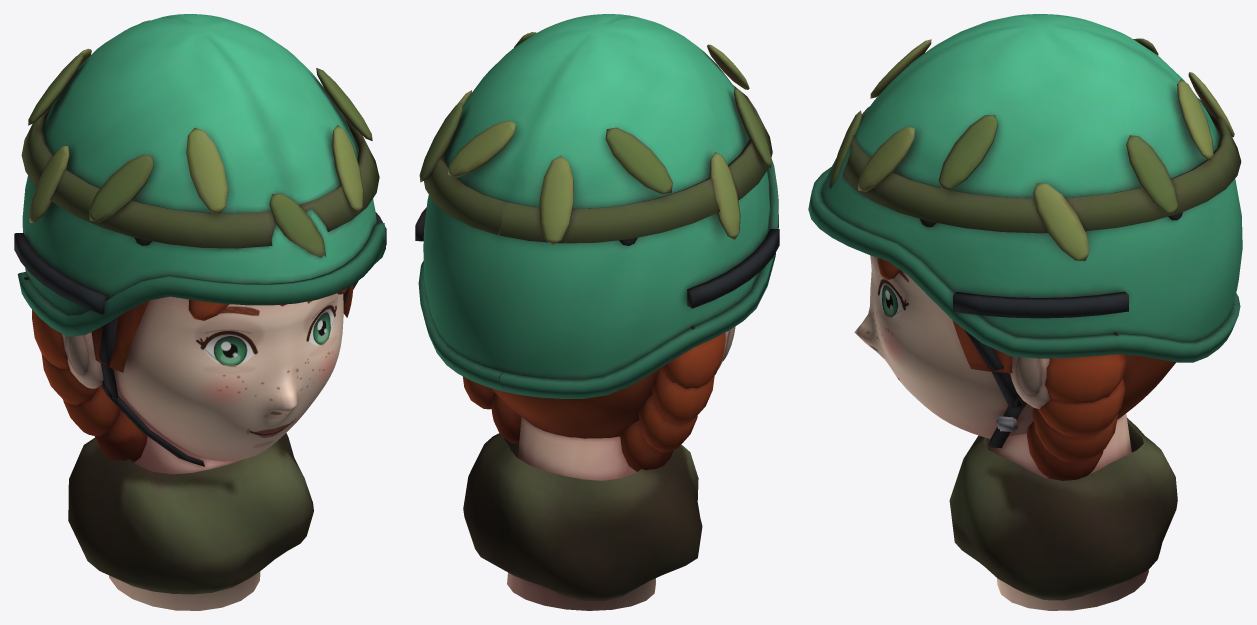
Rendered from cabeza-sniper-f.glb.
3 views of the same model, side by side, from view 1: azimuth 30°, elevation 25°; view 2: azimuth 150°, elevation 25°; view 3: azimuth 270°, elevation 25° (orthographic). The views are drawn at different scales.
Parts seen in each view (by area): view 1: h_Head; view 2: h_Head; view 3: h_Head.
Boxes of the visible parts, x1,y1,x2,y2 form: h_Head: [14, 14, 386, 610]; h_Head: [415, 14, 779, 610]; h_Head: [808, 14, 1242, 610].
Size of the model in its own units: 0.2329 by 0.4008 by 0.2821.
1 material, 1 textured.
